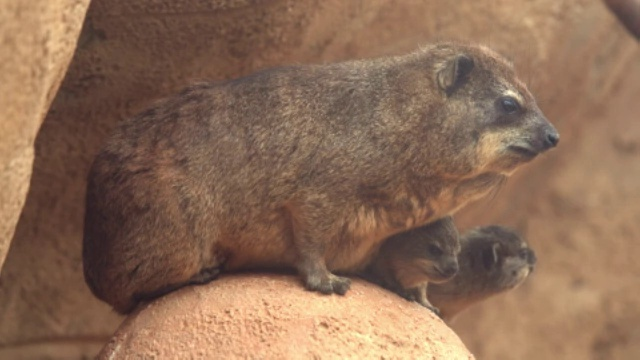Rock Hyrex: (75, 35, 559, 309), (427, 227, 536, 323), (358, 215, 462, 313)
